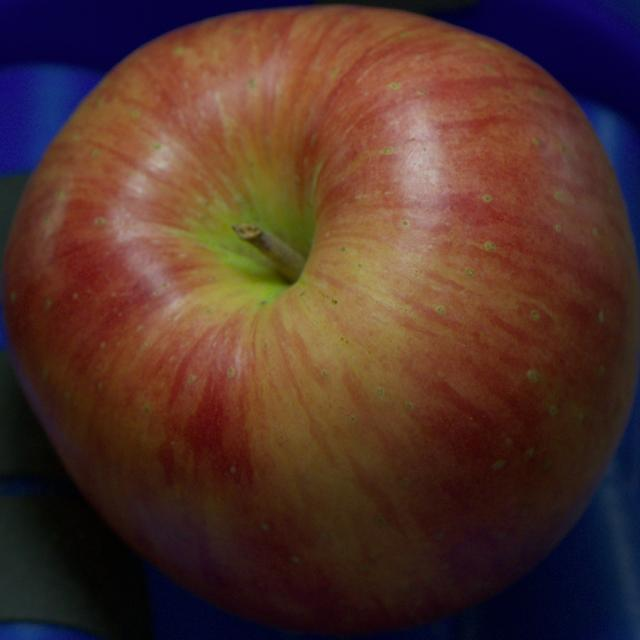apple: (0, 6, 639, 634)
